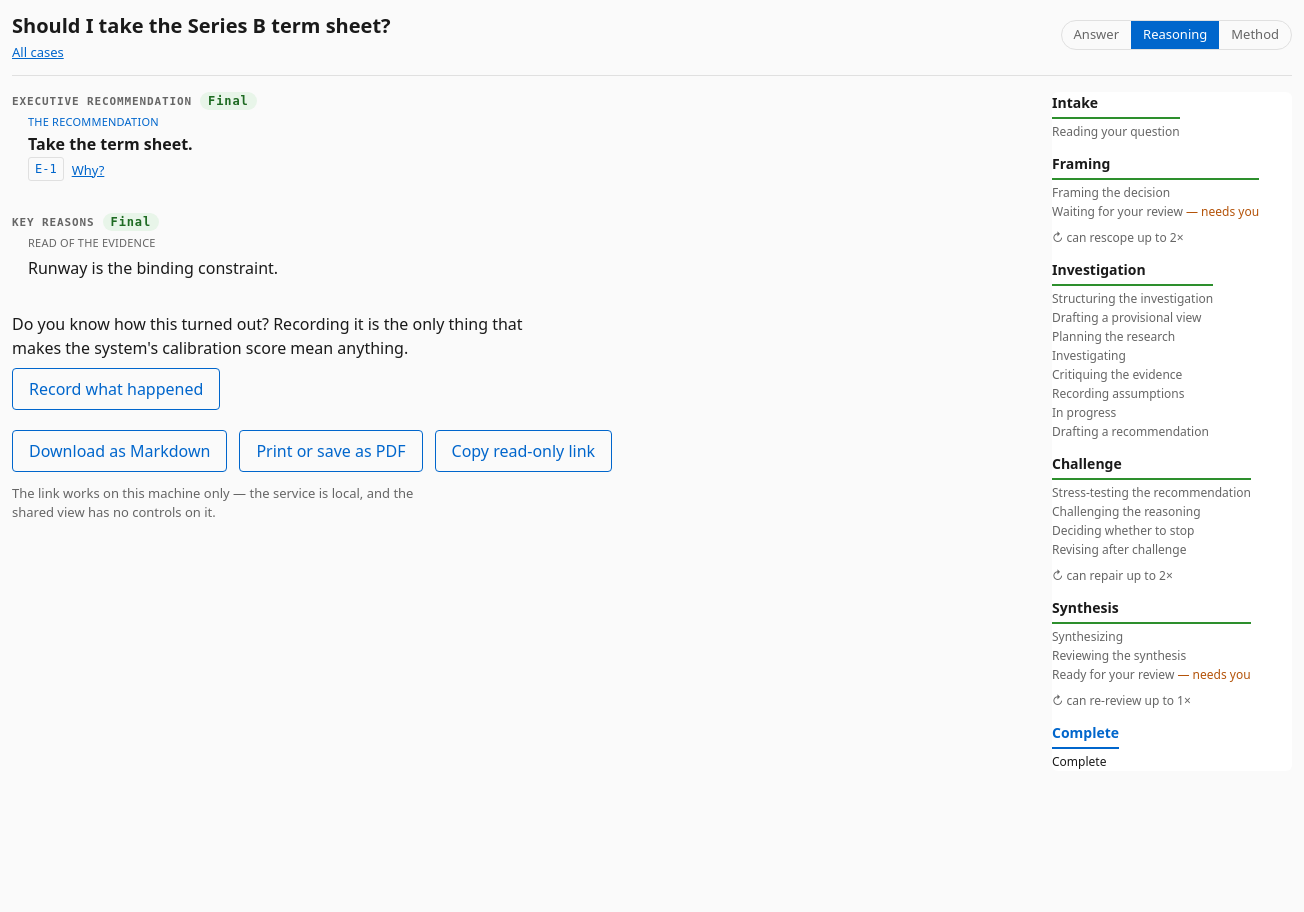
Test: altitude › shows only the answer-bearing sections at Answer altitude
Expected: the text "Take the term sheet." is shown, [28,132,193,154]
Click the button "Answer": (1096, 35) [1062,21,1131,48]
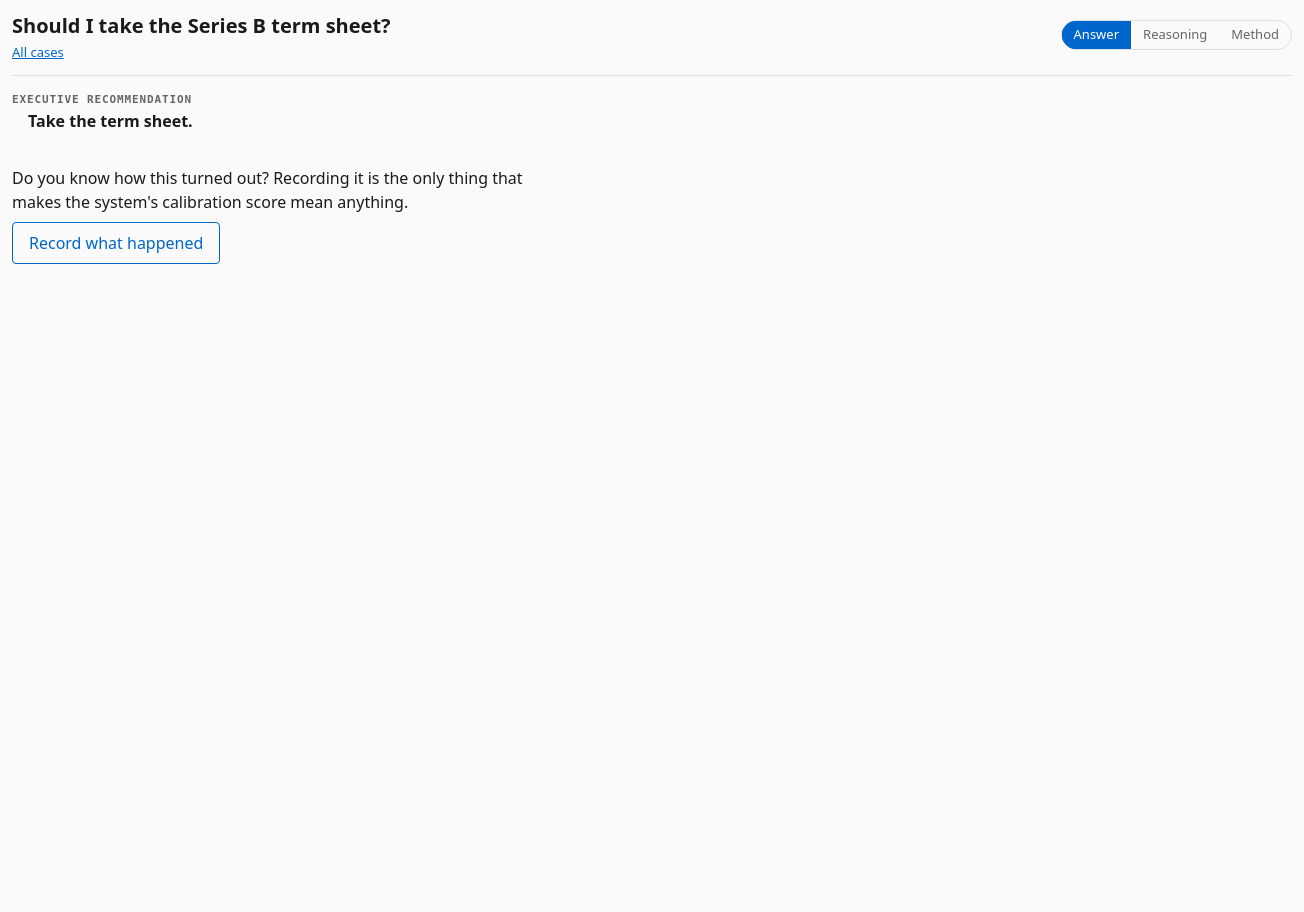
Expected: the text "Take the term sheet." is shown, [28,110,193,132]
Expected: the text "Runway is the binding constraint." is gone
Expected: the text "Read of the evidence" is gone
